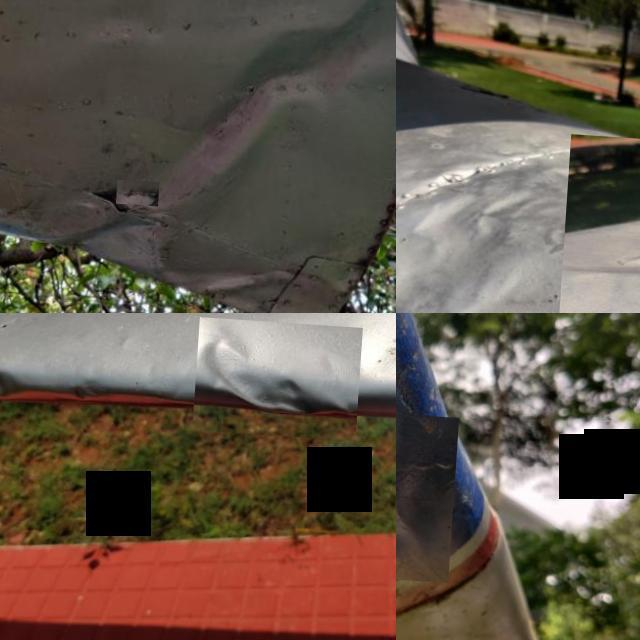Crack: (122, 176, 165, 202)
Dent: (162, 0, 396, 247), (396, 161, 536, 313), (198, 313, 367, 435), (396, 403, 463, 577), (0, 351, 39, 416)
